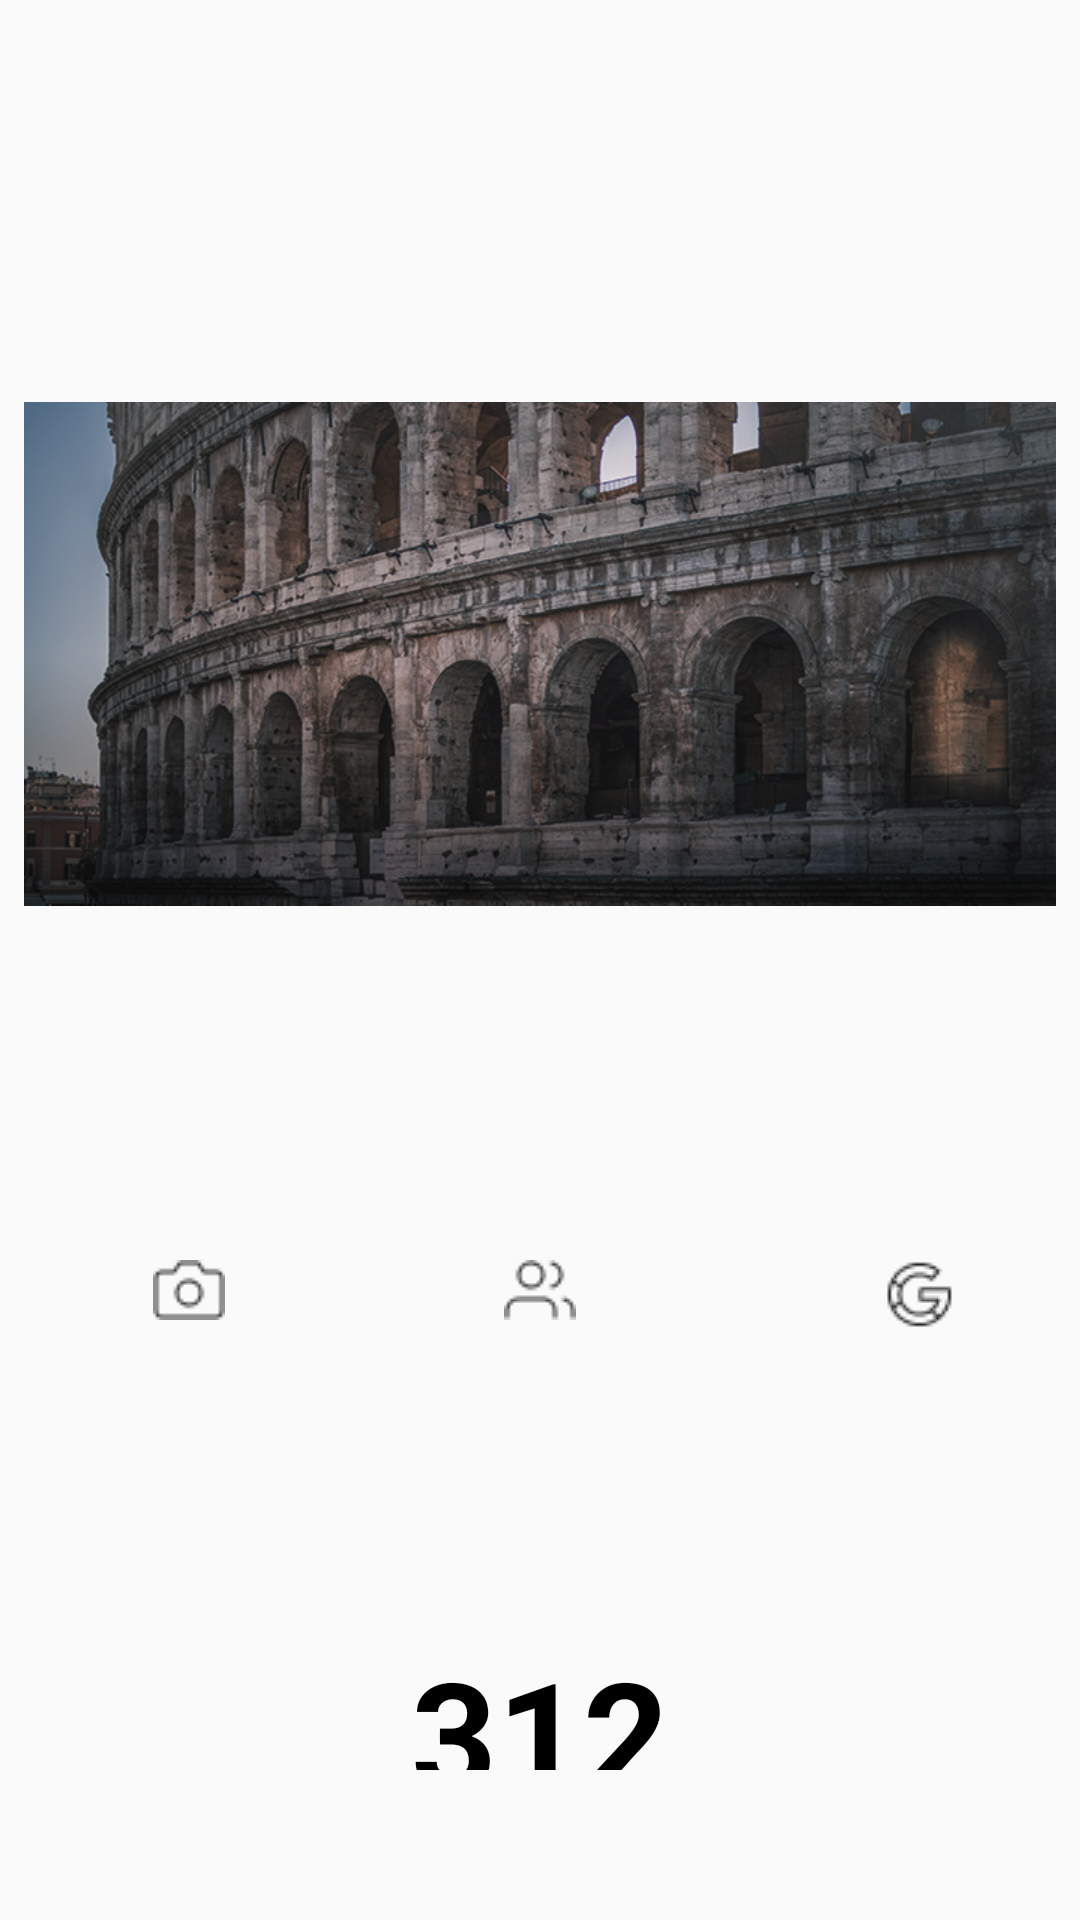

Locate icon controls on the screen. Image size 1080*1920, boxes as [left=x1, top=y1, right=x2, bottom=y2].
account: [left=504, top=1260, right=576, bottom=1320]
camera: [left=153, top=1260, right=225, bottom=1320]
